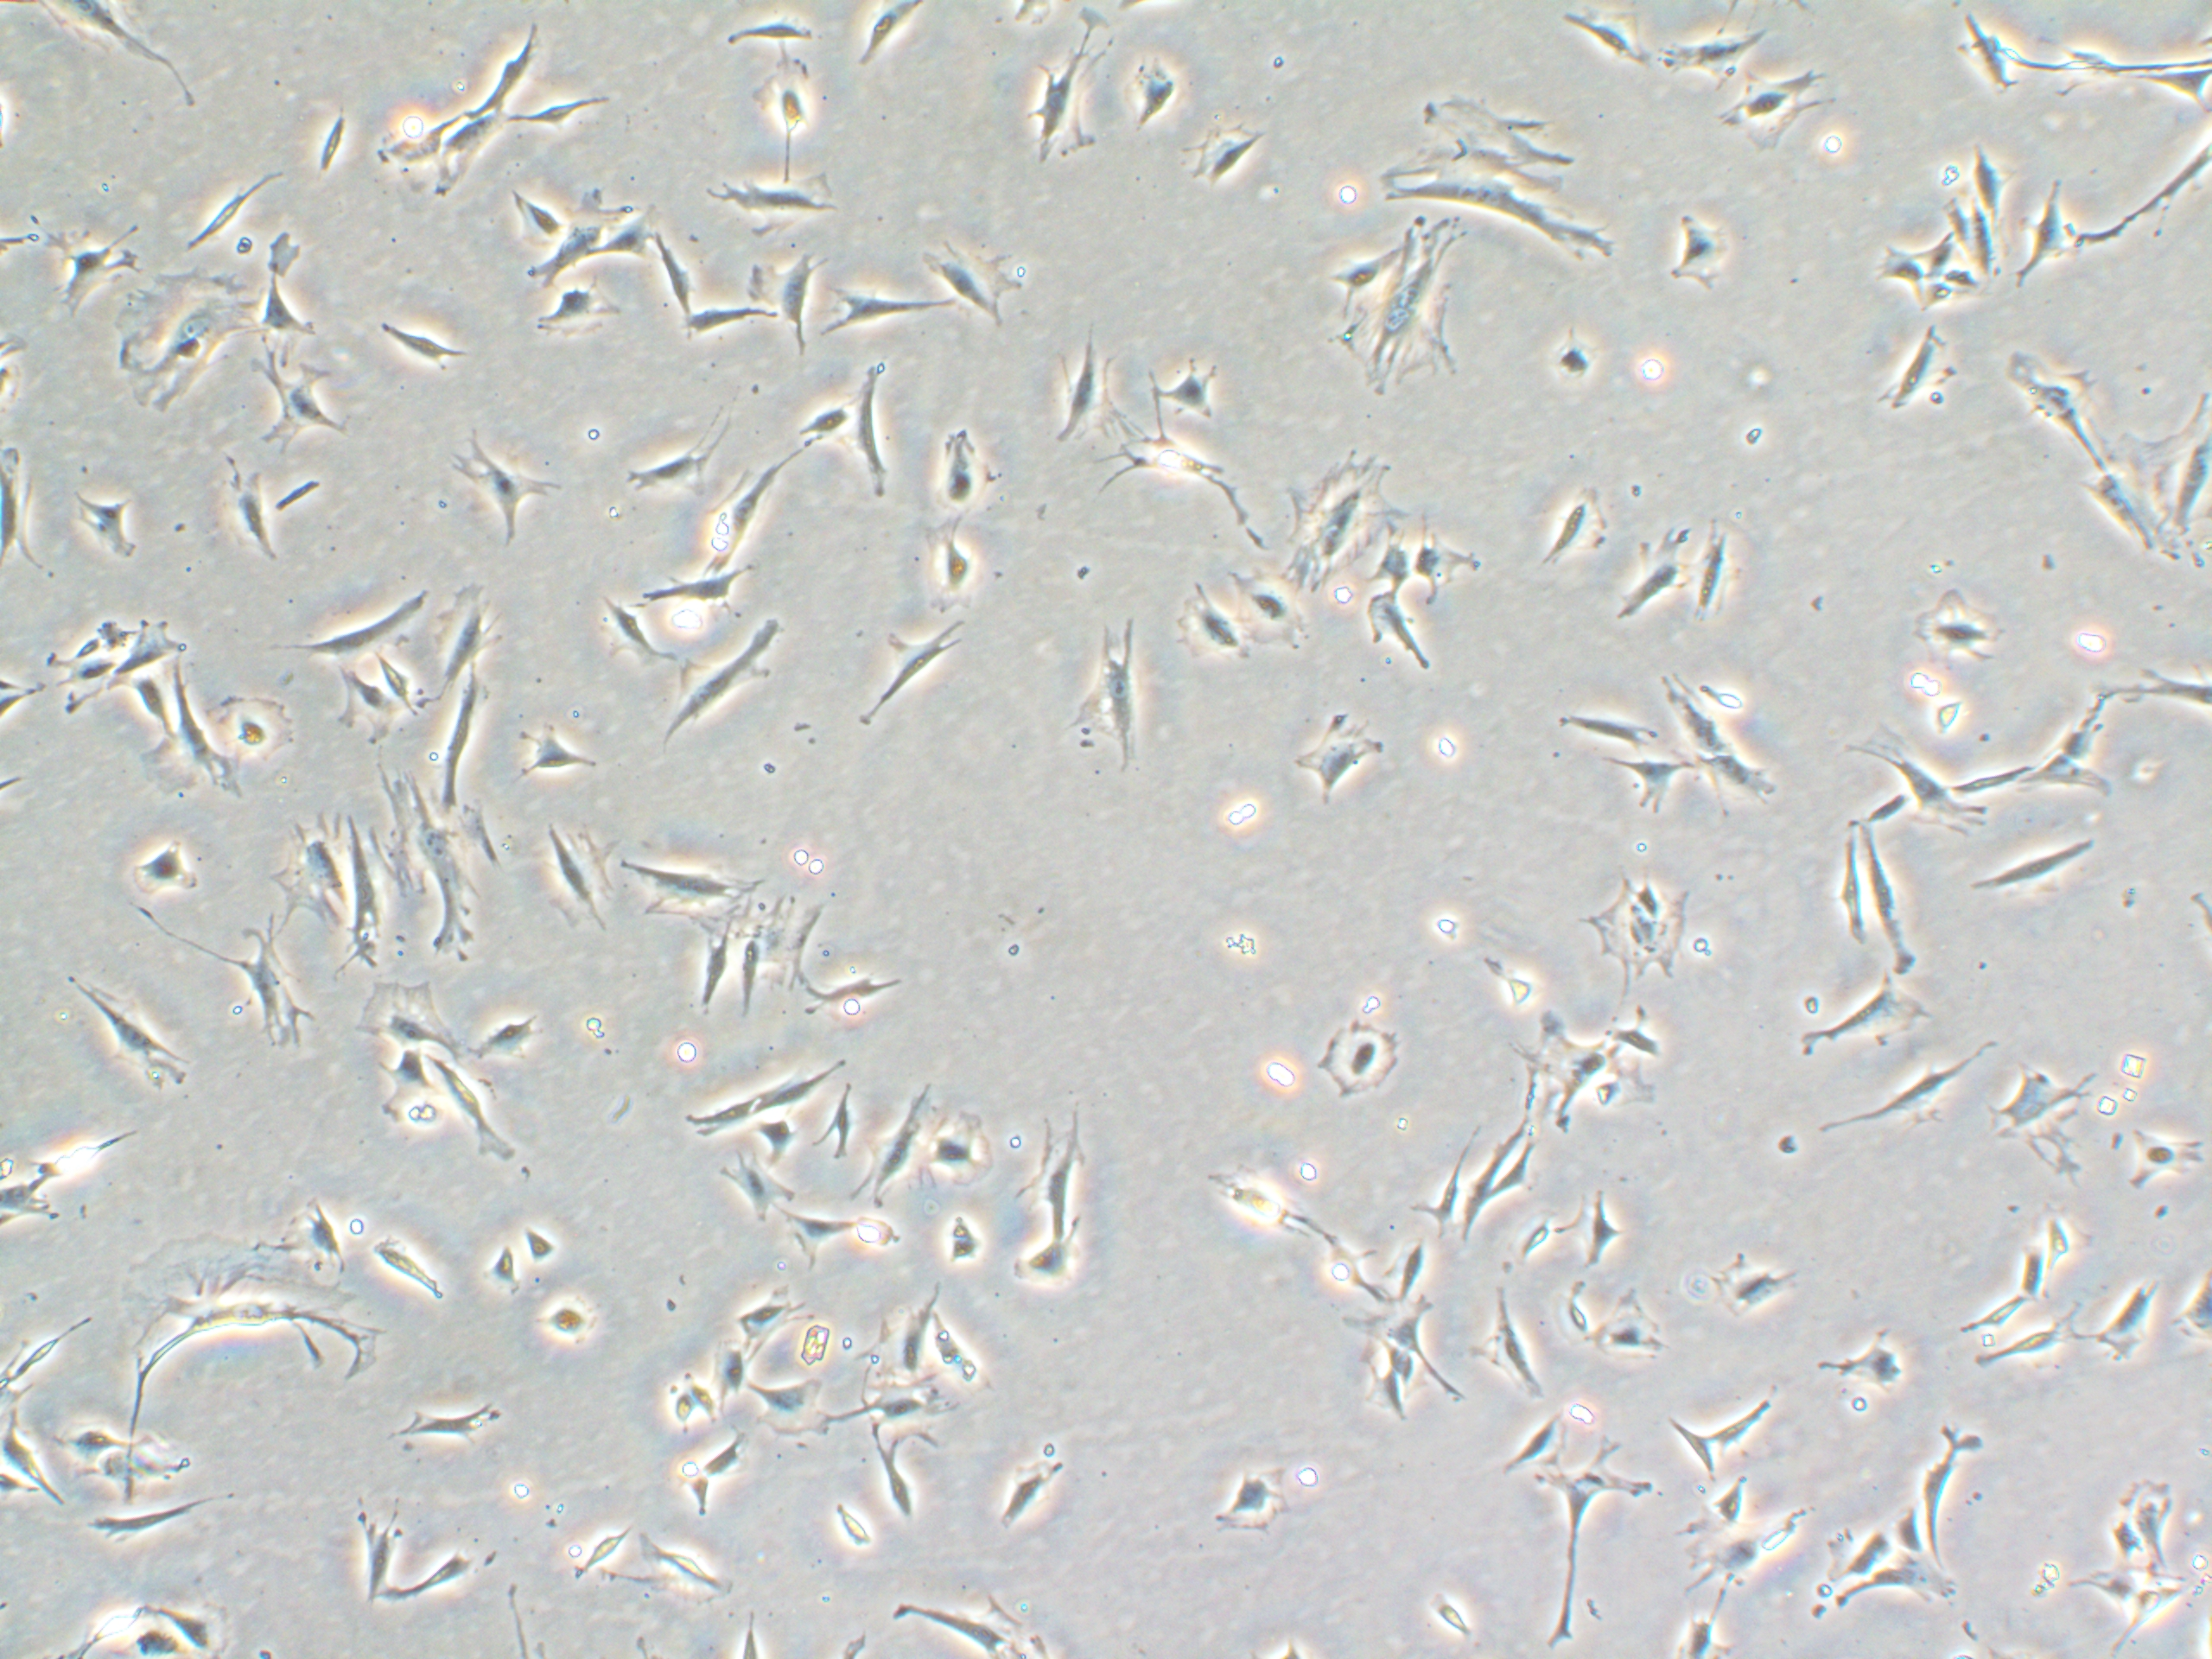polygonal: (1533, 1429, 1669, 1659), (643, 612, 810, 760), (1813, 1026, 2010, 1143), (61, 962, 206, 1107), (1059, 603, 1160, 800), (435, 425, 571, 559), (846, 612, 993, 730), (1000, 37, 1108, 193), (1954, 823, 2107, 932), (1989, 338, 2113, 472), (615, 836, 763, 934), (1843, 709, 1961, 831), (280, 577, 434, 669), (1794, 978, 1956, 1065), (859, 1588, 1054, 1659), (521, 809, 629, 934), (693, 446, 796, 577), (691, 159, 855, 240), (916, 234, 1043, 338), (334, 971, 479, 1058), (1679, 497, 1775, 627), (2008, 166, 2095, 308), (432, 1049, 531, 1171), (622, 415, 737, 519), (233, 929, 324, 1061), (338, 1490, 409, 1657), (1465, 1274, 1552, 1405), (806, 274, 972, 342), (510, 185, 617, 289), (1601, 497, 1681, 634), (1456, 1121, 1538, 1255), (1040, 317, 1122, 450), (84, 1483, 235, 1554), (1705, 1239, 1815, 1337), (1864, 326, 1963, 432), (381, 1387, 507, 1471), (853, 1065, 925, 1211), (1390, 1297, 1480, 1412), (632, 566, 773, 640), (465, 14, 559, 124), (430, 662, 496, 817), (1590, 1283, 1705, 1371), (991, 1215, 1101, 1307), (498, 85, 643, 155), (1810, 1556, 1965, 1621), (913, 418, 1003, 528), (1865, 824, 1930, 978), (1660, 202, 1750, 310), (1533, 469, 1616, 586), (1719, 70, 1831, 157), (1958, 1312, 2094, 1384), (1015, 1107, 1094, 1229), (1688, 744, 1796, 828), (1939, 9, 2034, 103), (725, 1272, 817, 1368), (381, 1537, 489, 1619), (1364, 587, 1449, 690), (512, 270, 631, 343), (341, 819, 395, 979), (859, 1419, 928, 1542), (1656, 17, 1791, 80), (239, 371, 347, 448), (590, 594, 672, 695), (453, 997, 554, 1079), (1834, 1305, 1914, 1408), (989, 1452, 1078, 1544), (742, 247, 813, 361), (843, 352, 892, 518), (716, 1147, 805, 1237), (742, 1366, 831, 1457), (1559, 0, 1655, 84), (2005, 746, 2128, 810), (1411, 1122, 1477, 1243), (1653, 657, 1730, 758), (1186, 108, 1273, 197), (317, 659, 409, 742), (1829, 816, 1883, 958), (1129, 40, 1204, 143), (52, 484, 148, 563), (216, 476, 293, 573), (509, 720, 620, 786), (131, 1595, 251, 1656), (2094, 1272, 2168, 1370), (254, 263, 331, 355), (376, 312, 470, 387), (2128, 1457, 2186, 1577), (1420, 525, 1496, 612), (568, 204, 671, 268), (493, 171, 573, 253), (1592, 746, 1693, 810), (691, 3, 824, 52), (1649, 1401, 1724, 1485), (873, 1283, 942, 1371), (1918, 1446, 1970, 1563), (749, 1053, 852, 1112), (1571, 1176, 1627, 1284), (1599, 1006, 1688, 1072), (810, 1072, 873, 1164), (1540, 699, 1662, 746), (1493, 1131, 1554, 1223), (2123, 1127, 2205, 1195), (671, 305, 780, 355), (1489, 1413, 1571, 1480), (643, 230, 700, 322), (1815, 1520, 1895, 1584), (1871, 234, 1928, 322), (1712, 1385, 1787, 1453), (927, 1208, 1003, 1274), (1946, 753, 2038, 807), (698, 1326, 756, 1410), (676, 1089, 763, 1143), (1970, 138, 2017, 237), (1350, 1351, 1407, 1429), (1165, 349, 1233, 415), (1383, 1225, 1439, 1303), (693, 1417, 749, 1493), (1693, 1467, 1763, 1527), (700, 936, 740, 1039), (745, 1114, 803, 1175), (1932, 185, 1973, 263), (1848, 789, 1918, 833), (1968, 204, 2003, 286), (2012, 1230, 2048, 1303), (1888, 1502, 1921, 1561)
small-round: (531, 1286, 611, 1371), (118, 831, 207, 908), (1536, 322, 1608, 397), (644, 1370, 700, 1445), (813, 1497, 878, 1560), (463, 1239, 524, 1298), (1547, 1279, 1597, 1347), (519, 1218, 577, 1274)
spread: (89, 1215, 409, 1396), (1383, 85, 1620, 281), (103, 256, 277, 441), (380, 763, 524, 981), (1324, 214, 1458, 415), (1278, 439, 1416, 617), (1581, 856, 1714, 983), (265, 812, 354, 931)
